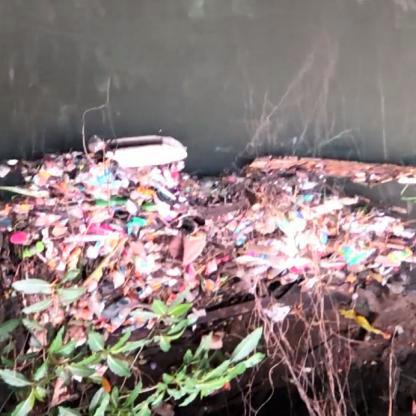Trash: (102, 132, 191, 174)
